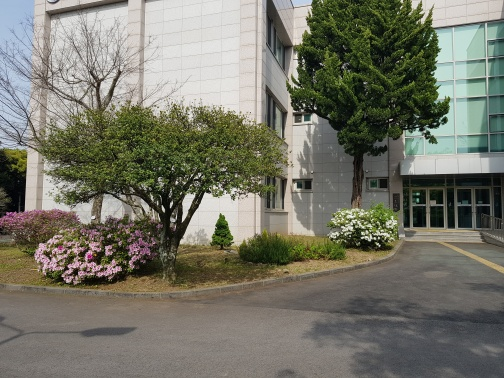College of Nursing: (30, 8, 482, 251)
